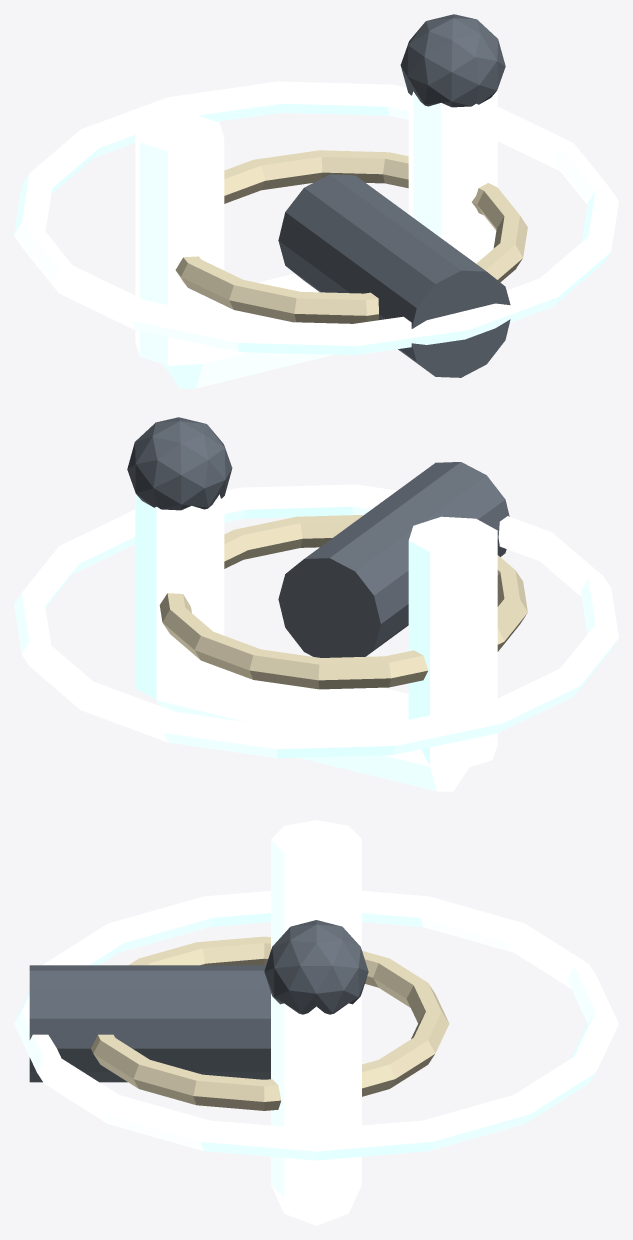
Rendered from iman_6.glb.
The picture shows the model from 3 angles, top to bottom: view 1: azimuth 30°, elevation 25°; view 2: azimuth 150°, elevation 25°; view 3: azimuth 270°, elevation 25°; orthographic projection.
Parts seen in each view (by area): view 1: energia, mango, herradura_izq, bobina, herradura_der, polo, herradura_base; view 2: energia, mango, herradura_izq, bobina, herradura_der, herradura_base, polo; view 3: energia, mango, bobina, herradura_der, herradura_izq, polo, herradura_base.
Boxes of the visible parts, left/top/right/bottom form: energia: left=14, top=81, right=618, bottom=355; mango: left=278, top=174, right=510, bottom=377; herradura_izq: left=135, top=113, right=224, bottom=365; bobina: left=175, top=150, right=527, bottom=323; herradura_der: left=408, top=90, right=497, bottom=263; polo: left=400, top=14, right=505, bottom=107; herradura_base: left=164, top=273, right=333, bottom=388; energia: left=14, top=484, right=618, bottom=758; mango: left=278, top=462, right=509, bottom=657; herradura_izq: left=408, top=516, right=497, bottom=768; bobina: left=159, top=515, right=527, bottom=689; herradura_der: left=135, top=493, right=224, bottom=699; herradura_base: left=157, top=662, right=468, bottom=791; polo: left=127, top=417, right=232, bottom=510; energia: left=14, top=890, right=618, bottom=1160; mango: left=29, top=965, right=270, bottom=1082; bobina: left=91, top=936, right=449, bottom=1110; herradura_der: left=271, top=993, right=361, bottom=1203; herradura_izq: left=271, top=820, right=361, bottom=949; polo: left=264, top=920, right=368, bottom=1014; herradura_base: left=271, top=1185, right=361, bottom=1225.
Size of the model in its own units: 0.9 by 0.4946 by 0.9.
